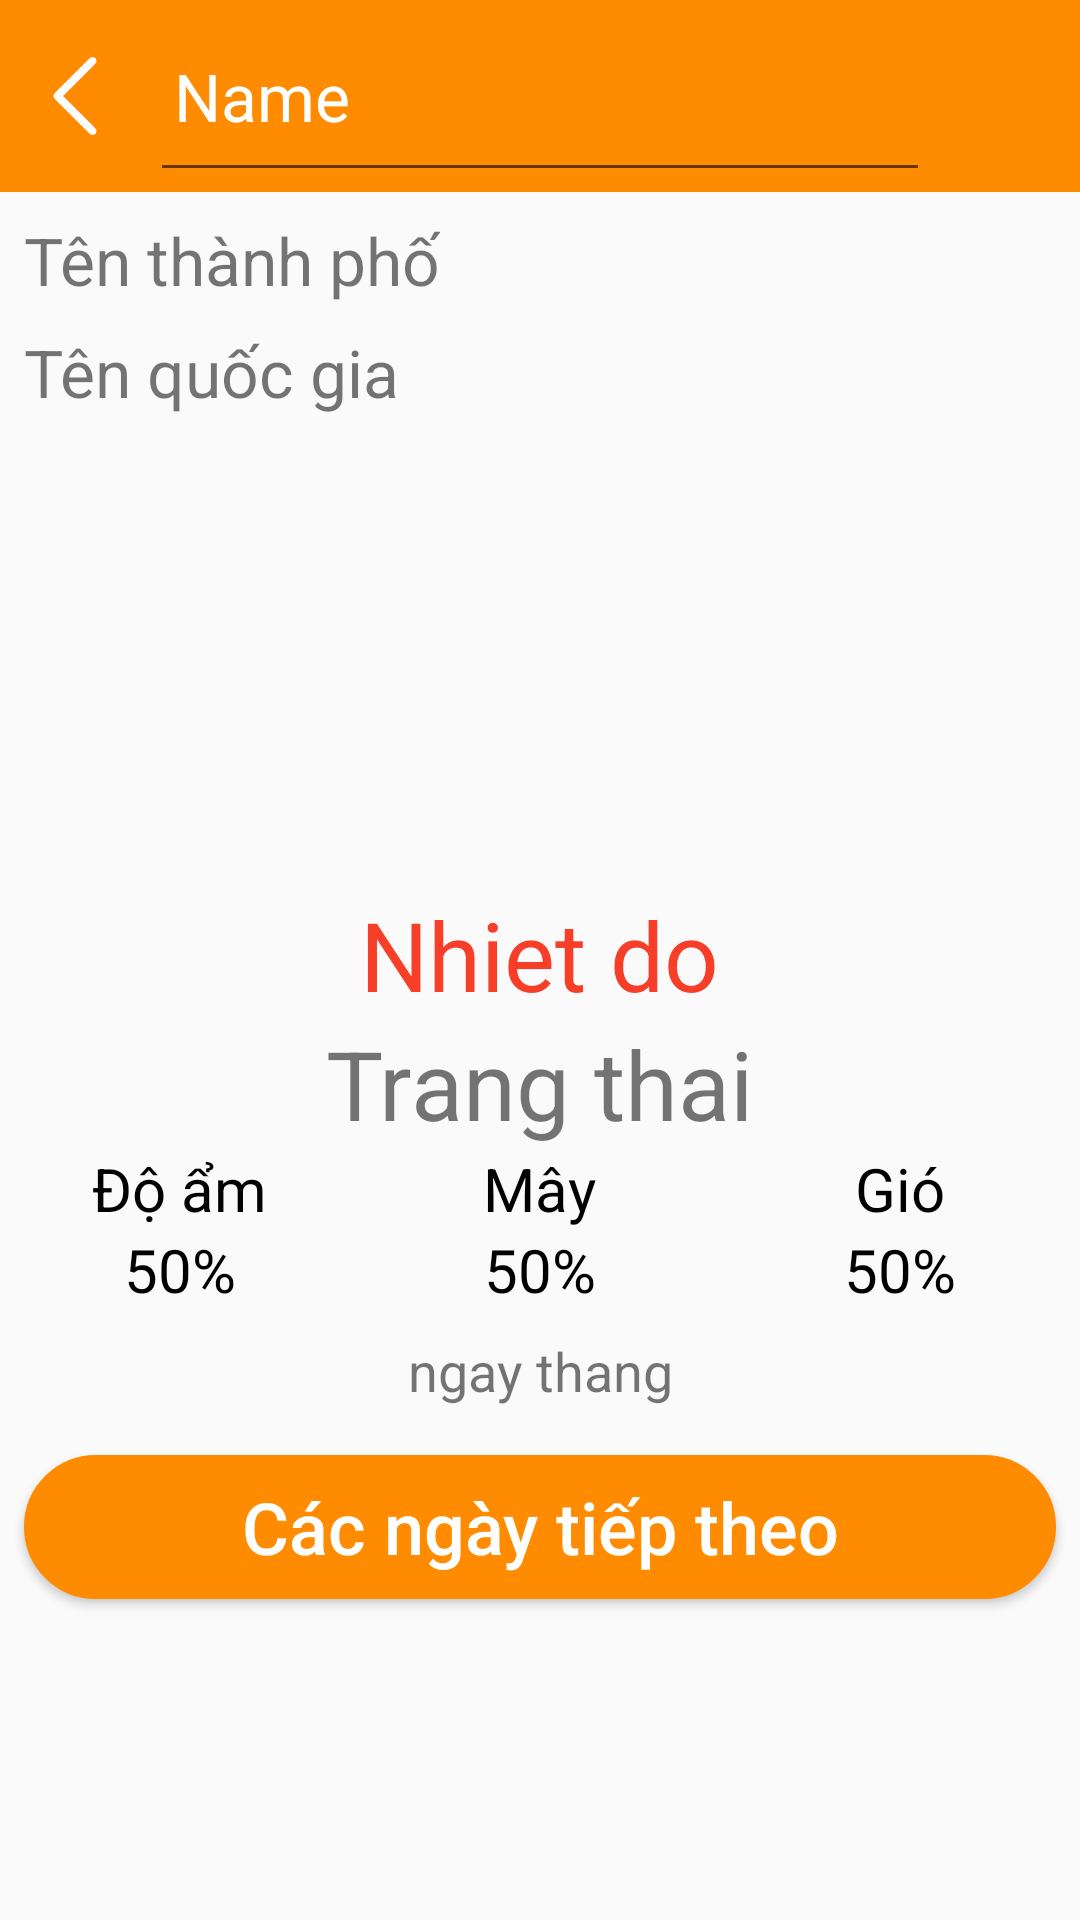

Icon click points for this 1080*1920 phone screenshot, format point (x, y):
back: point (75, 96)
